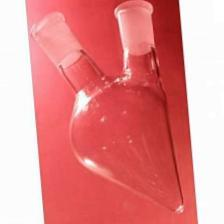Pear shaped flask: (30, 8, 186, 215)
